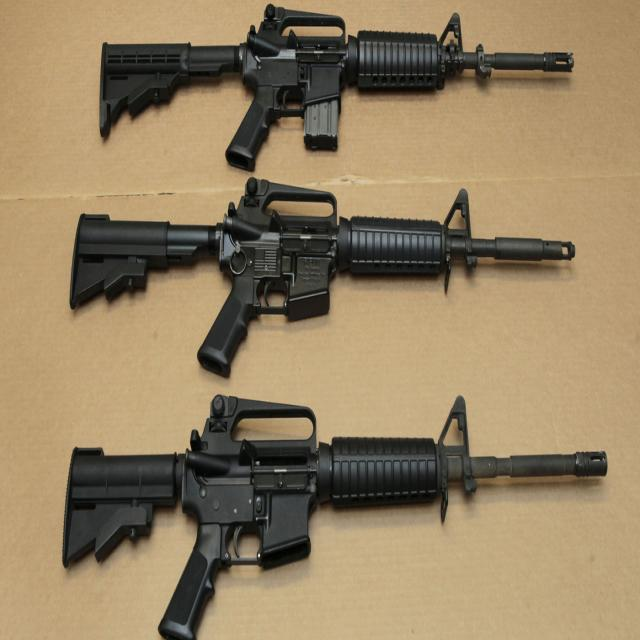Rifle: (63, 396, 608, 640), (69, 176, 577, 381), (99, 6, 576, 171)
